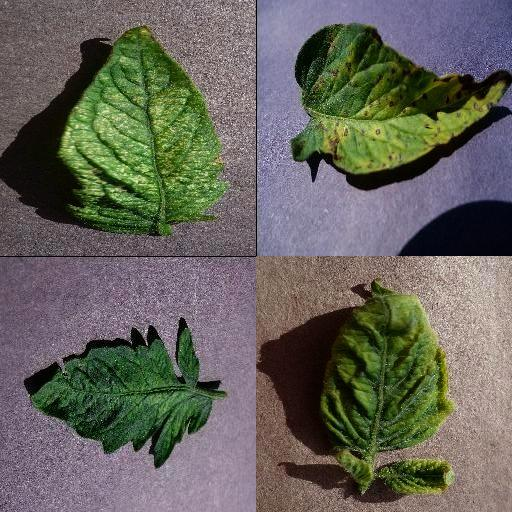Mosaic Virus: (26, 323, 213, 471)
Septoria: (288, 24, 512, 176)
Spider Mites: (55, 24, 225, 238)
Yellow Leaf Curl Virus: (318, 277, 456, 451), (382, 457, 456, 495)
